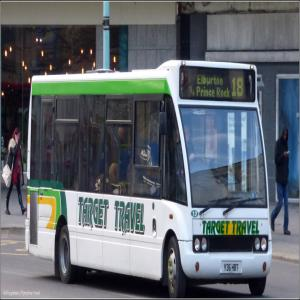Vehicle-registration-plate: (222, 261, 243, 275)
